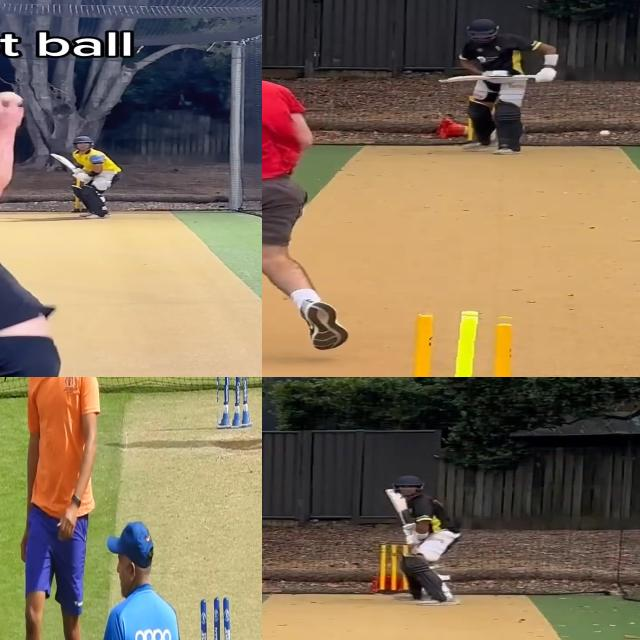Cricket ball: (0, 88, 24, 107), (598, 130, 612, 137)
Stumps: (398, 310, 529, 377), (216, 377, 251, 428), (378, 543, 410, 596)
